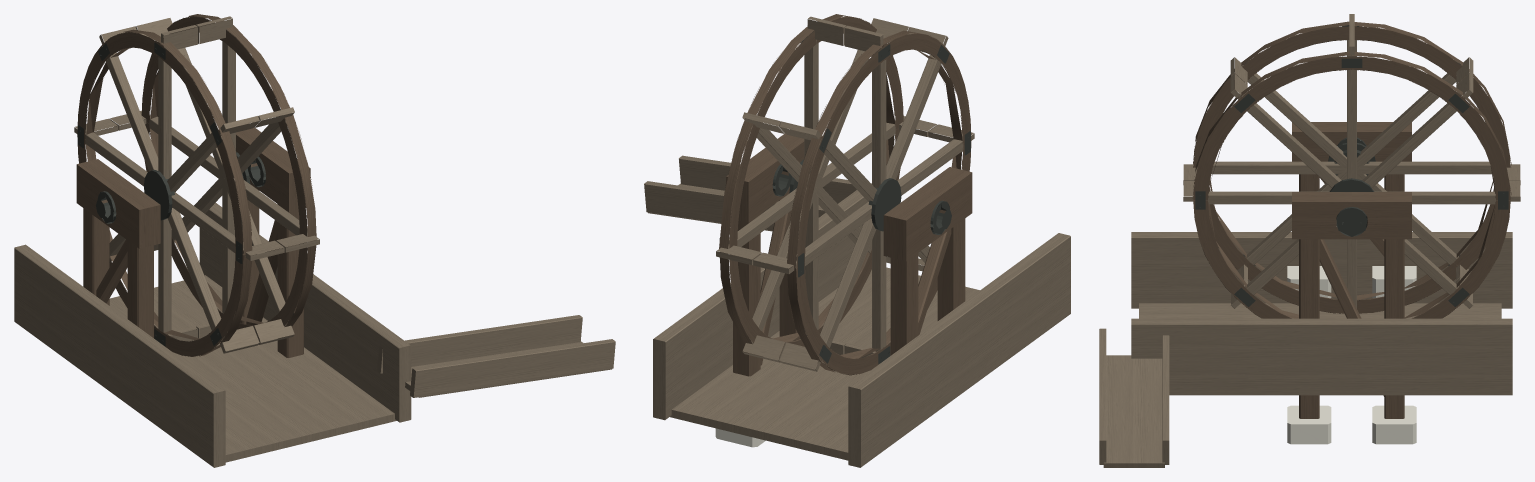
The model's file is waterwheel.glb.
The picture shows the model from 3 angles, left to right: view 1: azimuth 30°, elevation 25°; view 2: azimuth 150°, elevation 25°; view 3: azimuth 270°, elevation 25°; orthographic projection. The views are drawn at different scales.
Visible parts, largest first — view 1: PD_Waterwheel_Static, PD_Waterwheel_Rotor; view 2: PD_Waterwheel_Static, PD_Waterwheel_Rotor; view 3: PD_Waterwheel_Static, PD_Waterwheel_Rotor.
Part boxes in pixels (x1,y1,x2,y2): PD_Waterwheel_Static: (14,124,615,467); PD_Waterwheel_Rotor: (74,14,319,356); PD_Waterwheel_Static: (644,129,1070,467); PD_Waterwheel_Rotor: (716,14,974,375); PD_Waterwheel_Static: (1099,122,1512,467); PD_Waterwheel_Rotor: (1183,14,1520,318).
Size of the model in its own units: 2.7 by 2.6 by 2.67.
4 materials, 2 textured.
